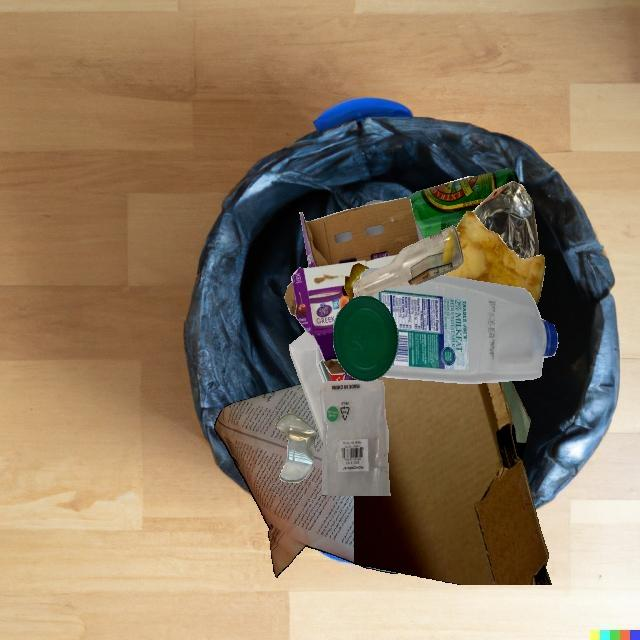biowaste: (444, 211, 545, 305), (344, 263, 370, 301)
cardboard: (354, 377, 552, 585), (284, 198, 419, 381), (428, 176, 476, 188)
glass: (408, 168, 520, 239), (353, 226, 463, 297), (275, 412, 316, 483)
metal: (472, 181, 539, 259)
paper: (323, 274, 511, 434), (214, 384, 354, 577), (289, 331, 323, 440)
plastic: (394, 275, 558, 377), (382, 306, 541, 384), (319, 379, 390, 496), (333, 296, 398, 381), (316, 342, 324, 383), (361, 200, 387, 207), (415, 221, 424, 241)
